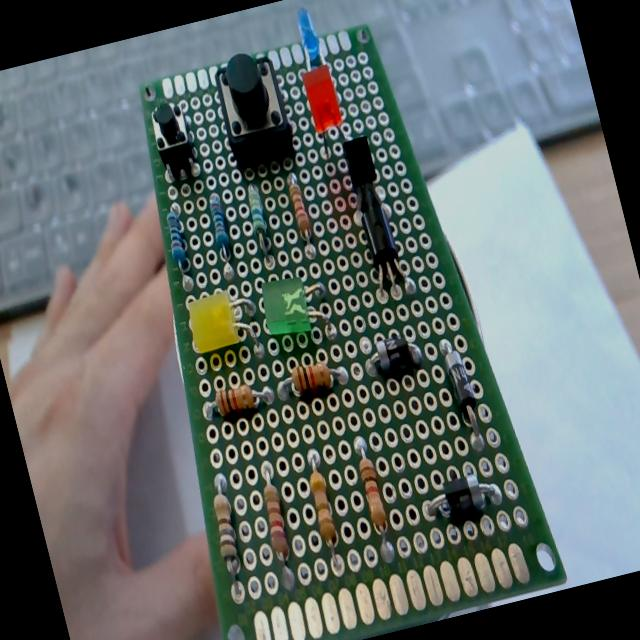diode: (416, 467, 514, 536), (436, 329, 488, 442), (356, 322, 432, 389)
led: (254, 259, 342, 355), (176, 276, 268, 366), (300, 64, 350, 154), (284, 0, 331, 73)
resistor: (195, 460, 268, 608), (296, 444, 358, 584), (250, 462, 308, 602), (347, 427, 398, 567), (188, 366, 277, 432), (274, 352, 354, 412), (156, 196, 201, 282), (201, 180, 241, 276), (280, 165, 320, 258), (239, 175, 279, 266)
switch: (202, 46, 304, 172), (144, 94, 208, 188)
transistor: (356, 200, 414, 296), (339, 133, 385, 208)
